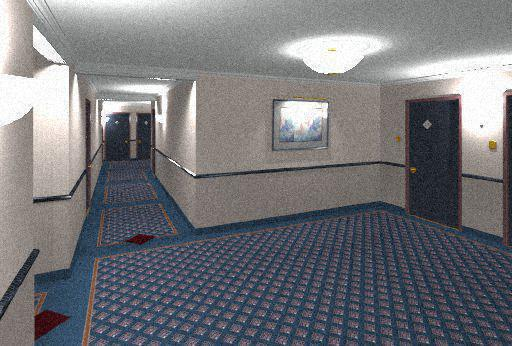Puerta: (404, 97, 460, 219), (106, 112, 129, 161)
